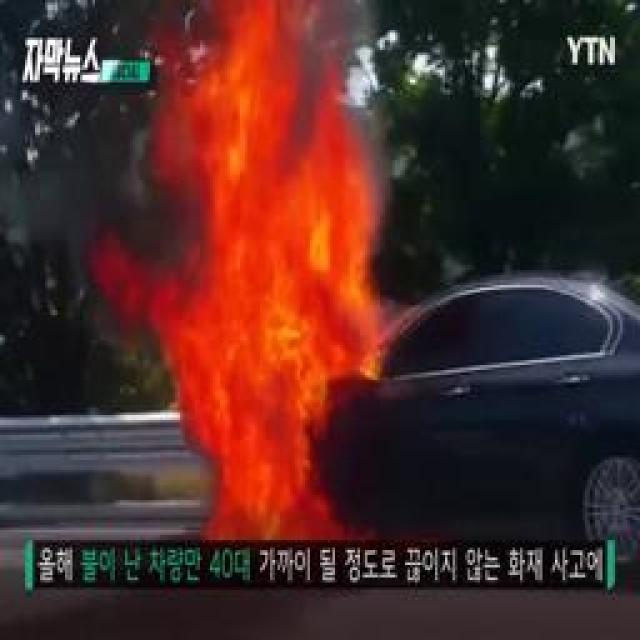Fire: (192, 8, 370, 542)
